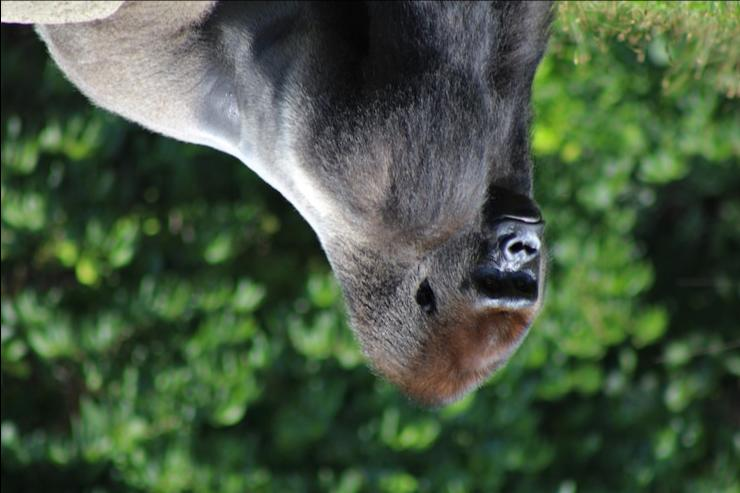gorille_Autres: (3, 0, 599, 493)
